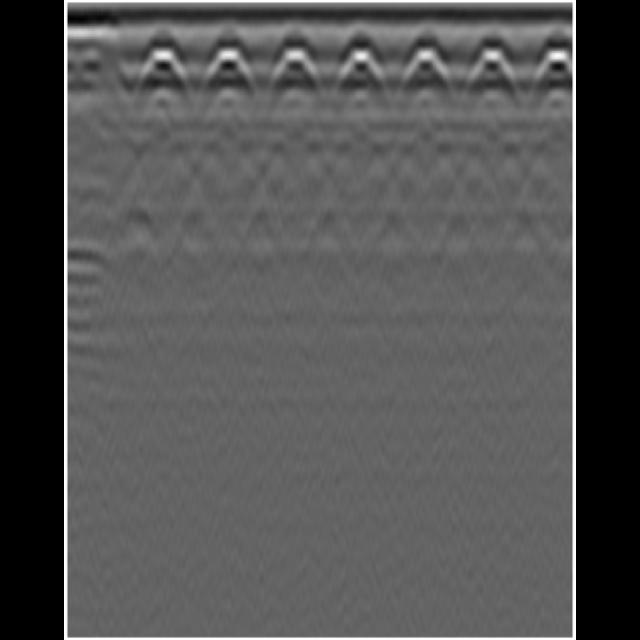hyperbola: (320, 39, 394, 109), (390, 35, 458, 109), (260, 36, 330, 106), (126, 49, 198, 112), (466, 38, 526, 102), (202, 42, 254, 108), (524, 42, 572, 106)
